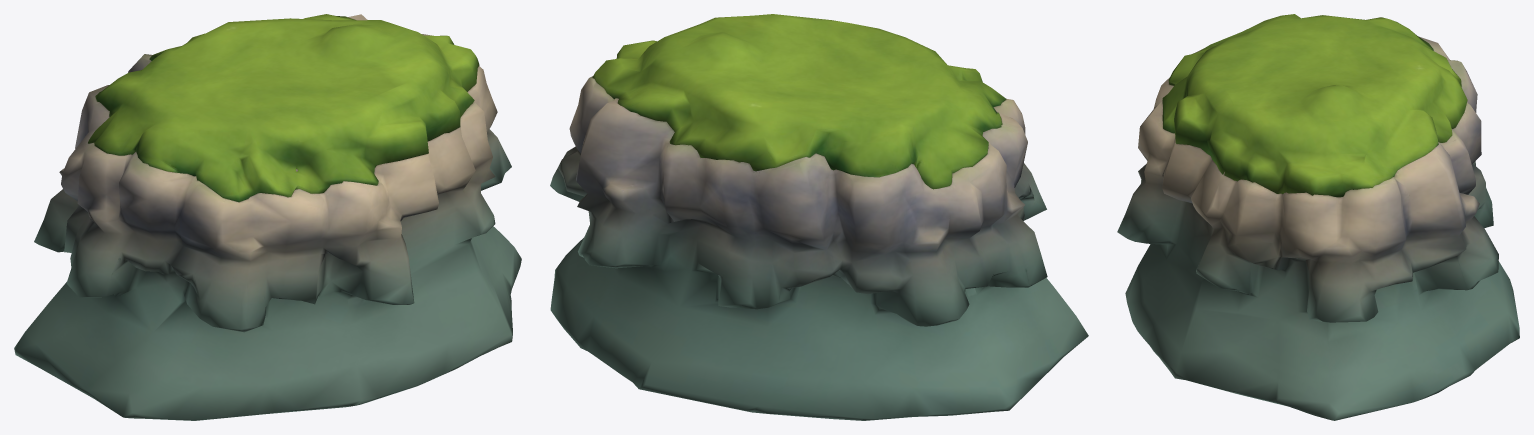
File: islet_plateau.glb
The picture shows the model from 3 angles, left to right: view 1: azimuth 30°, elevation 25°; view 2: azimuth 150°, elevation 25°; view 3: azimuth 270°, elevation 25°; orthographic projection. The views are drawn at different scales.
Parts seen in each view (by area): view 1: islet_plateau; view 2: islet_plateau; view 3: islet_plateau.
Part boxes in pixels (x1,y1,x2,y2): islet_plateau: (14, 14, 521, 420); islet_plateau: (550, 14, 1088, 420); islet_plateau: (1117, 14, 1519, 420).
Bounding box in the file's own units: 12.05 × 6.63 × 9.33.
1 material, 1 textured.
